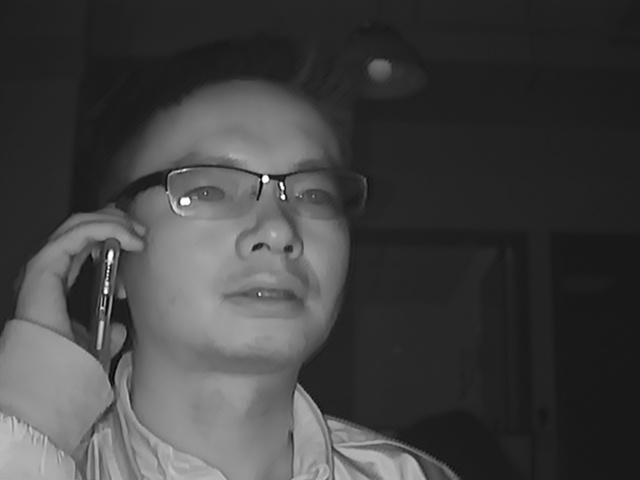hand: (19, 204, 149, 354)
